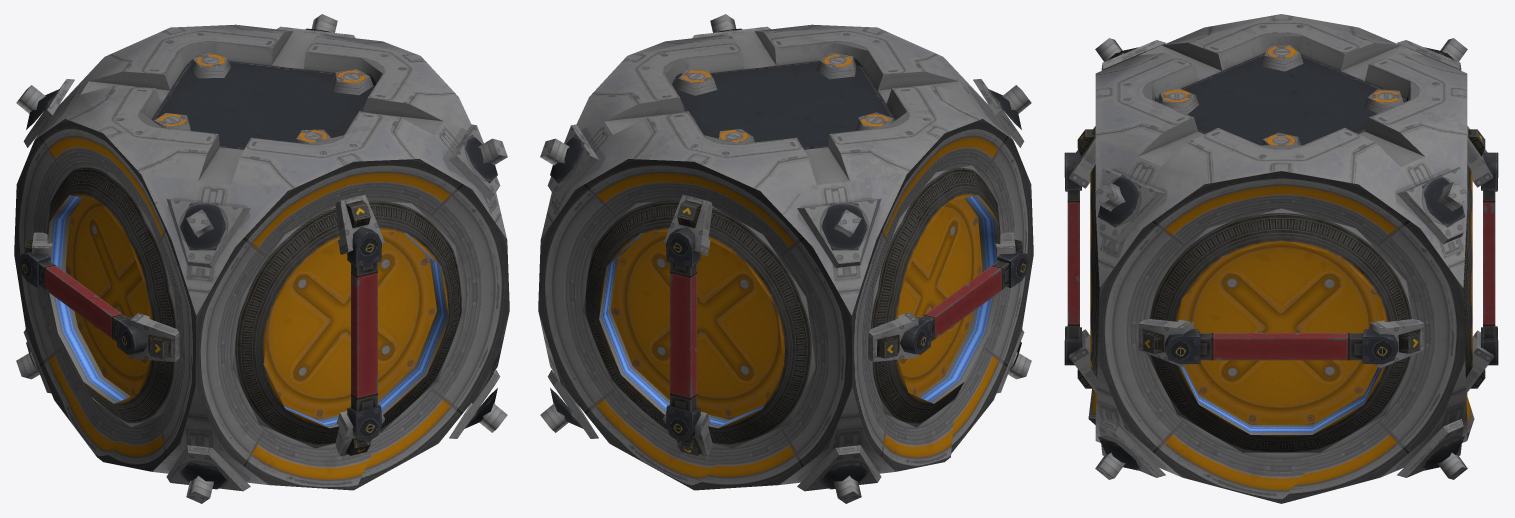
Rendered from LootBox_02_L3.fbx.
3 views of the same model, side by side, from view 1: azimuth 30°, elevation 25°; view 2: azimuth 150°, elevation 25°; view 3: azimuth 270°, elevation 25° (orthographic).
Visible parts, largest first — view 1: LootBox_02_L3; view 2: LootBox_02_L3; view 3: LootBox_02_L3.
Part boxes in pixels (left/top/right/bottom): LootBox_02_L3: left=14, top=14, right=509, bottom=503; LootBox_02_L3: left=538, top=14, right=1033, bottom=503; LootBox_02_L3: left=1064, top=14, right=1498, bottom=503.
Size of the model in its own units: 134 by 113 by 134.
